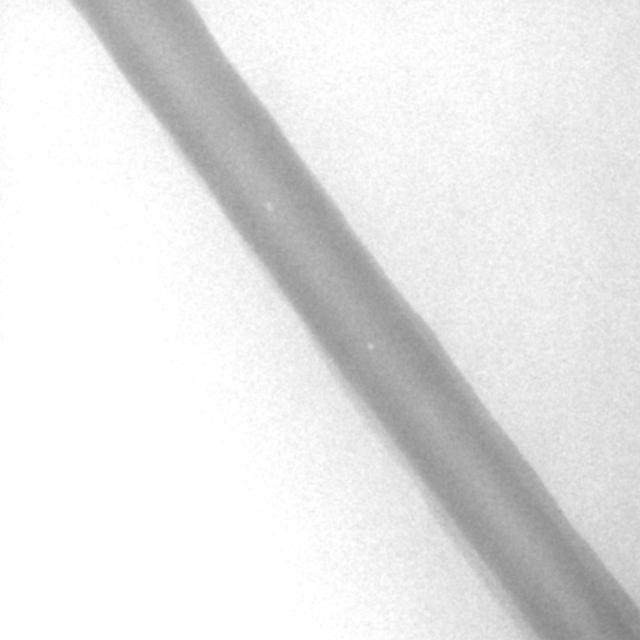air-hole: (264, 200, 276, 210), (368, 340, 374, 352)
